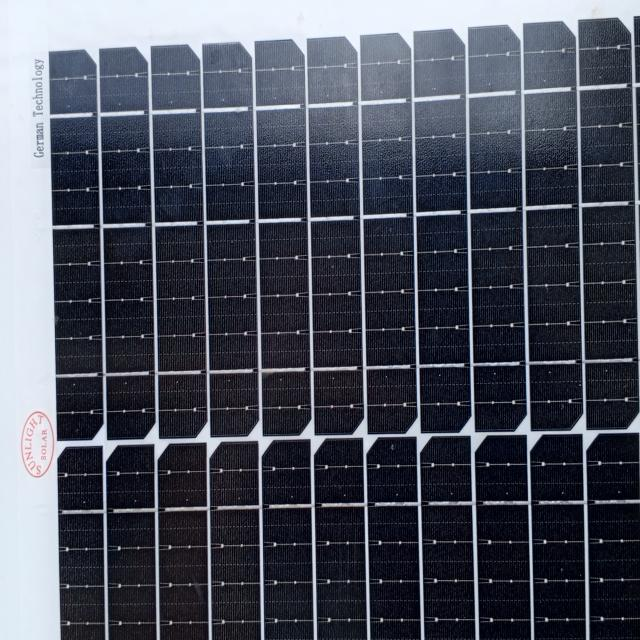Clean: (13, 14, 640, 634)
